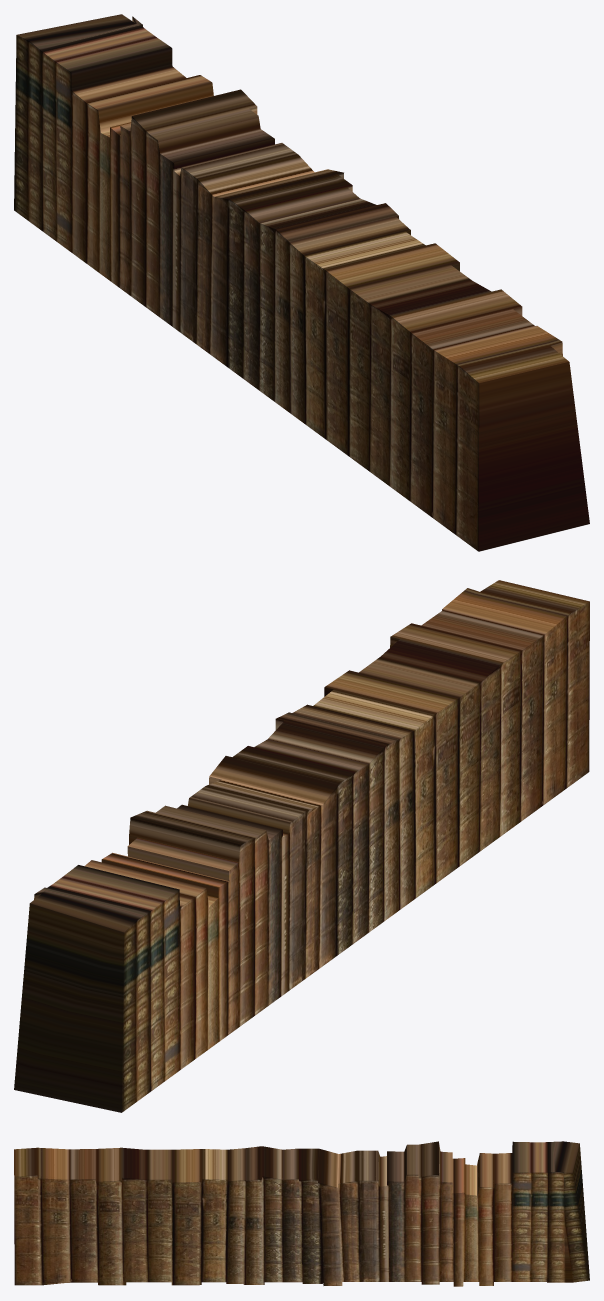
File: Props_BookSet_6.fbx
3 renders of one model, top to bottom at view 1: azimuth 30°, elevation 25°; view 2: azimuth 150°, elevation 25°; view 3: azimuth 270°, elevation 25°, orthographic. The views are drawn at different scales.
Parts seen in each view (by area): view 1: tx_books_6; view 2: tx_books_6; view 3: tx_books_6.
Part boxes in pixels (x1,y1,x2,y2): tx_books_6: (14,14,589,551); tx_books_6: (14,580,589,1112); tx_books_6: (14,1141,589,1286).
Bounding box in the file's own units: 57.85 × 86.75 × 407.
